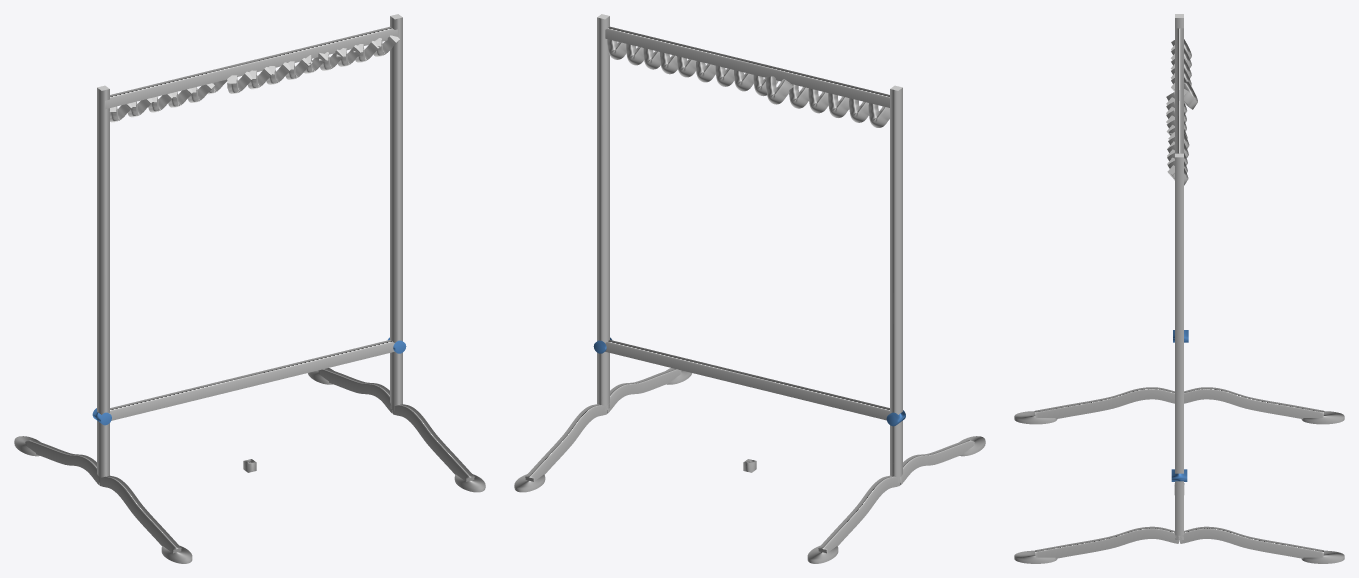
Rendered from bismillahbisa.glb.
3 views of the same model, side by side, from view 1: azimuth 30°, elevation 25°; view 2: azimuth 150°, elevation 25°; view 3: azimuth 270°, elevation 25° (orthographic). The views are drawn at different scales.
Parts seen in each view (by area): view 1: Foot_Front_-0.575; view 2: Foot_Front_-0.575; view 3: Foot_Front_-0.575.
Part boxes in pixels (left/top/right/bottom): Foot_Front_-0.575: left=14, top=14, right=485, bottom=563; Foot_Front_-0.575: left=514, top=14, right=985, bottom=563; Foot_Front_-0.575: left=1014, top=14, right=1344, bottom=563.
Bounding box in the file's own units: 1.23 × 1.57 × 1.15.
